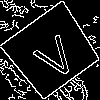V: (27, 26, 81, 83)
